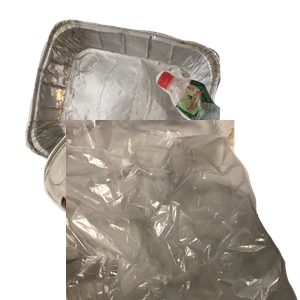glass: (41, 120, 281, 300)
metal: (23, 17, 236, 197)
plastic: (153, 68, 300, 190)
trash: (66, 120, 300, 300)
